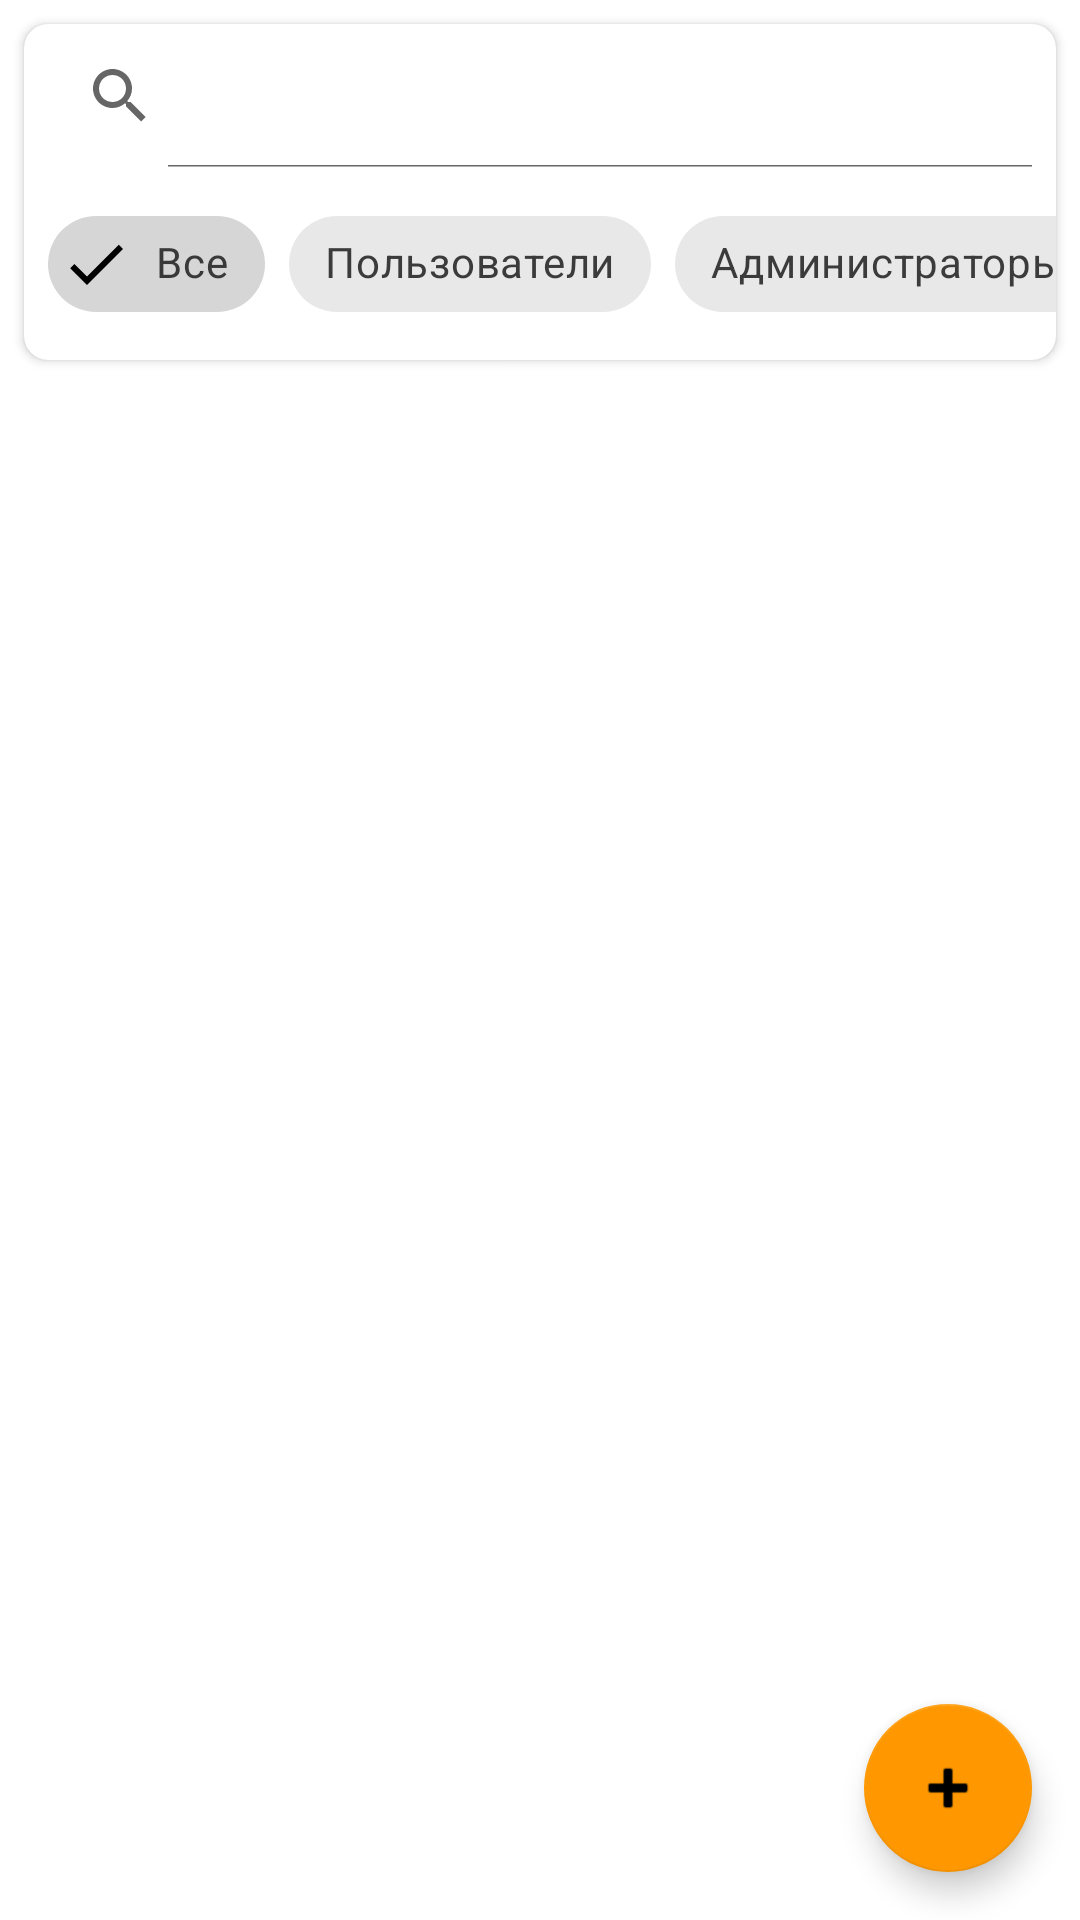

Named icons in this screenshot (1080px×1920px) and their centers, (x=x, y=y):
Добавить пользователя: (x=948, y=1788)
